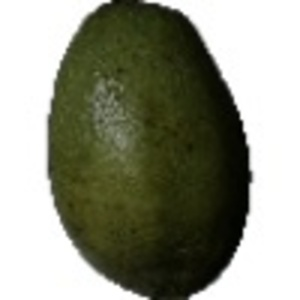abacate: (44, 2, 254, 293)
